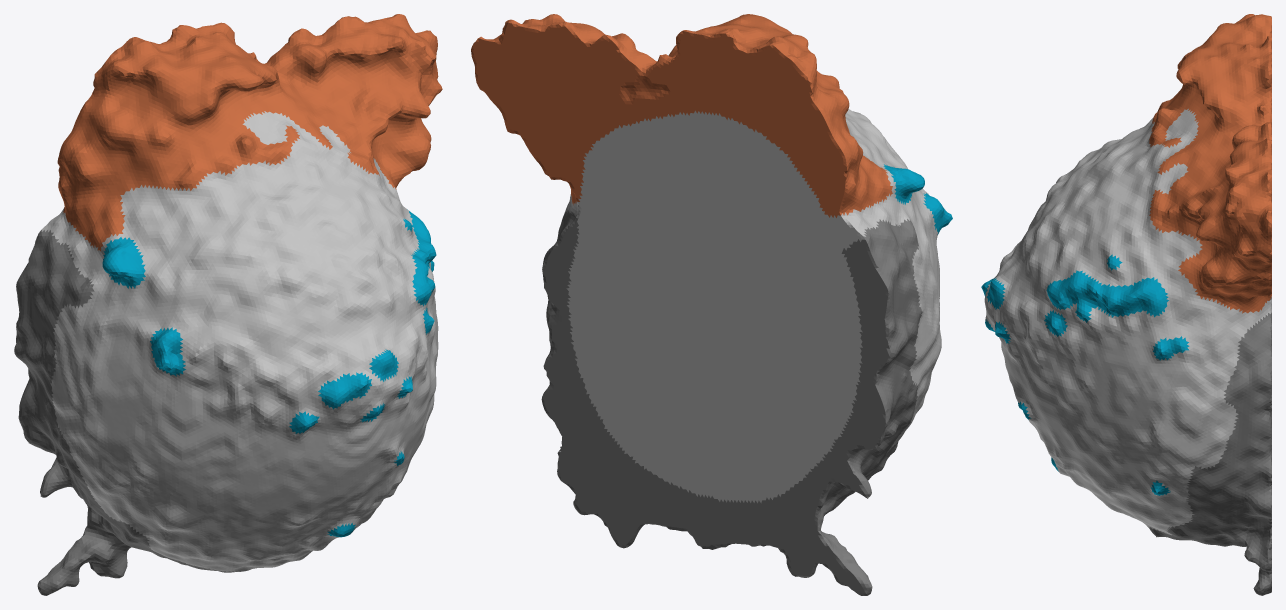
3 renders of one model, left to right at view 1: azimuth 30°, elevation 25°; view 2: azimuth 150°, elevation 25°; view 3: azimuth 270°, elevation 25°, orthographic. The views are drawn at different scales.
Size of the model in its own units: 105 by 129 by 66.87.
